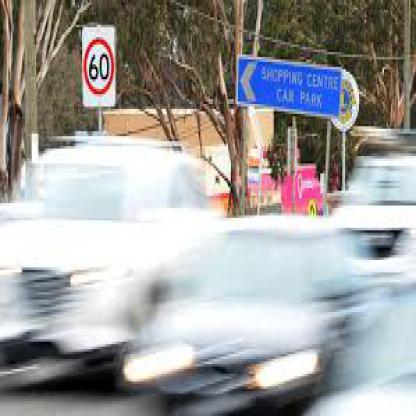Speed Limit 60: (84, 38, 114, 93)
